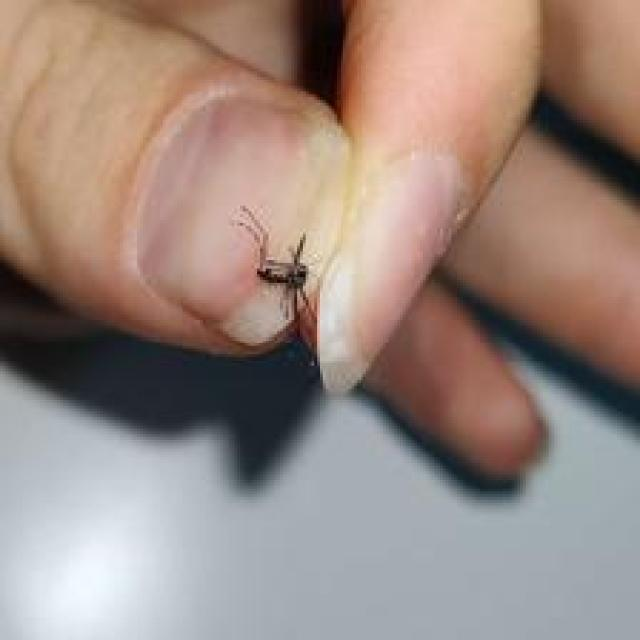Aedes albopictus: (232, 203, 317, 326)
